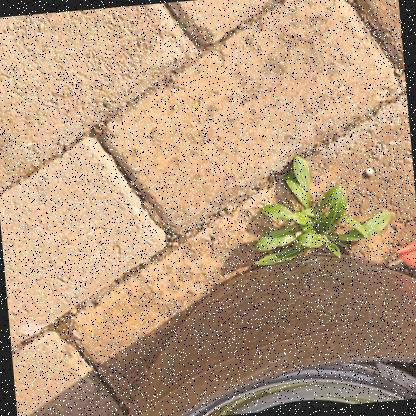Weeds: (245, 147, 395, 267)
